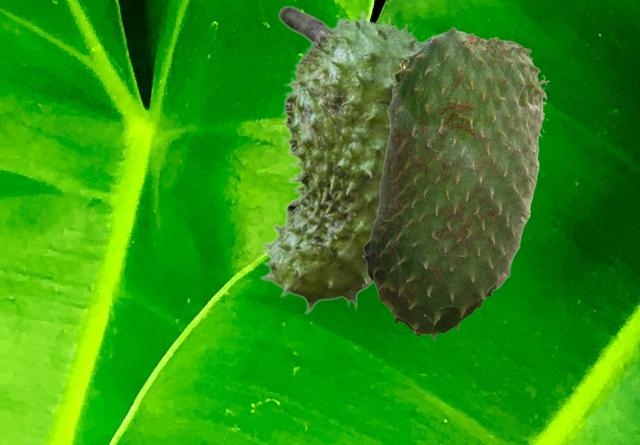guyabano: (361, 26, 548, 339), (258, 5, 435, 314)
